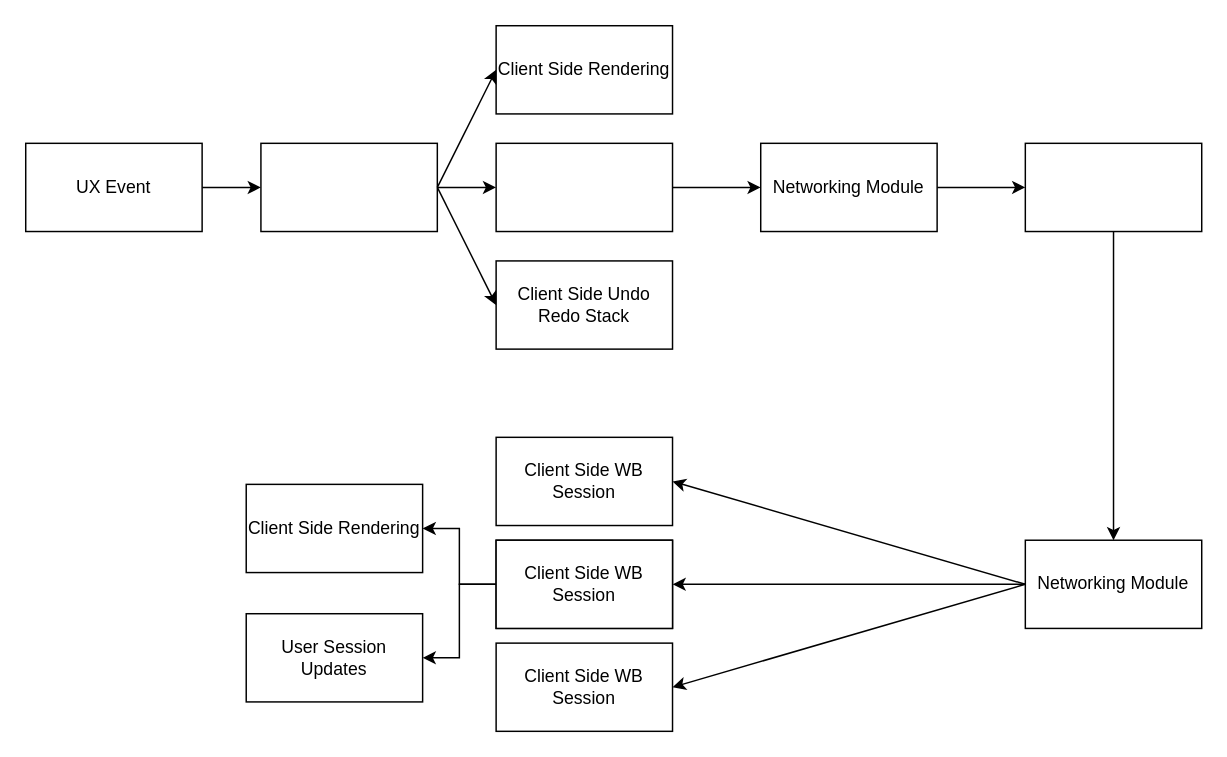
Image size: 1227x757. Some labels were removed from this diagram. Each missing label, with the centre of its shape:
"Client WB Session Addition" goes at point (584, 187).
"Object_Creation" goes at point (348, 187).
"Server Side WB Session" goes at point (1113, 187).
